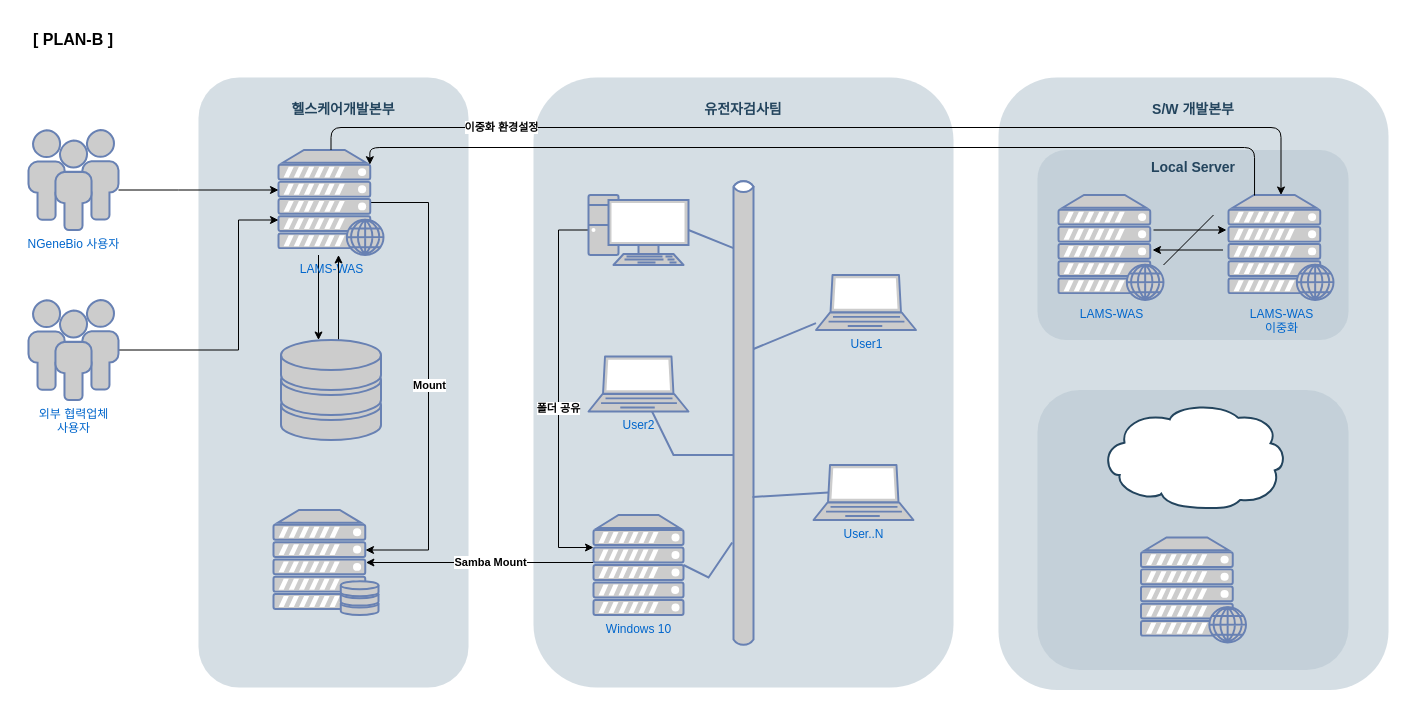
The diagram is 1405 pixels wide and 707 high, and some of its shapes have lost their labels. The shapes that lost their labels are listed below. From the top down, each one's centre as x and y in pixels, then its label:
At [638,230]: "NGS Sequencer".
At [331,389]: "LAMS-DB".
At [1193,455]: "Google Cloud".
At [325,562]: "헬스케어개발본부 분석서버".
At [1193,589]: "API".
